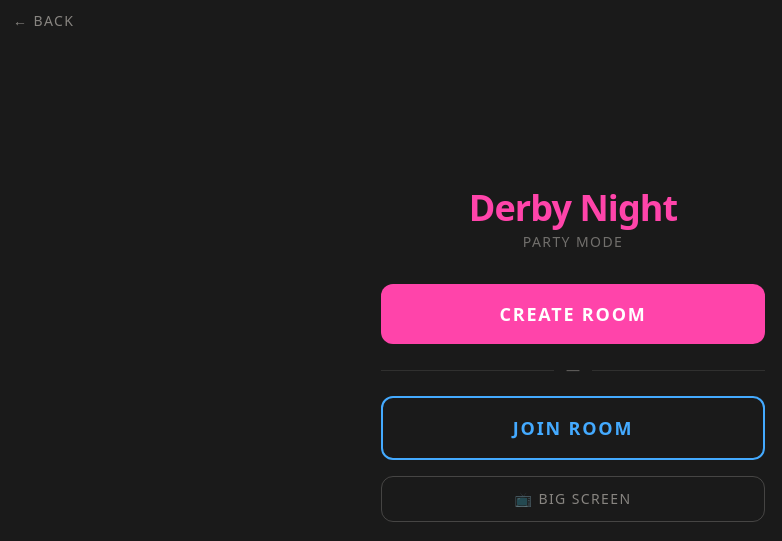
Scenario: DerbyLobbyScreen — Join Room › join button is enabled when exactly 4 characters entered
This screenshot has width=782, height=541.
Click the button with test id "join-room-btn" at (573, 428), box [381, 396, 765, 460]
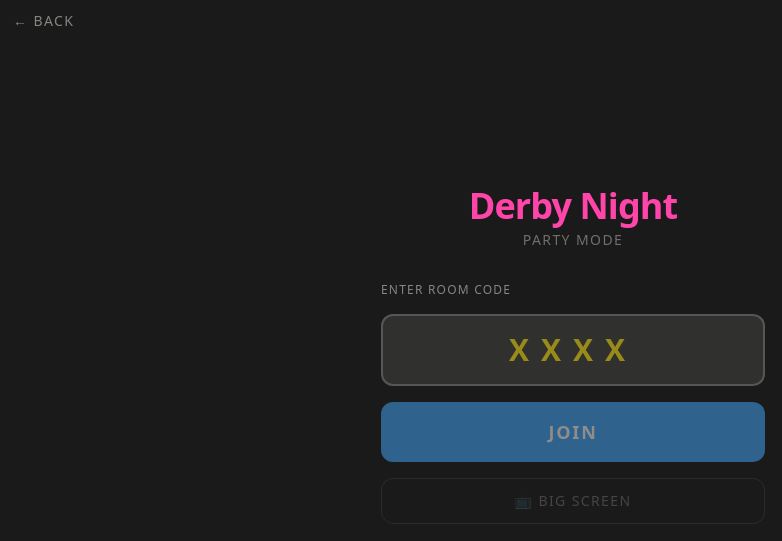
Type "G7KP" into the field with test id "room-code-input" at (573, 350), box [381, 314, 765, 386]
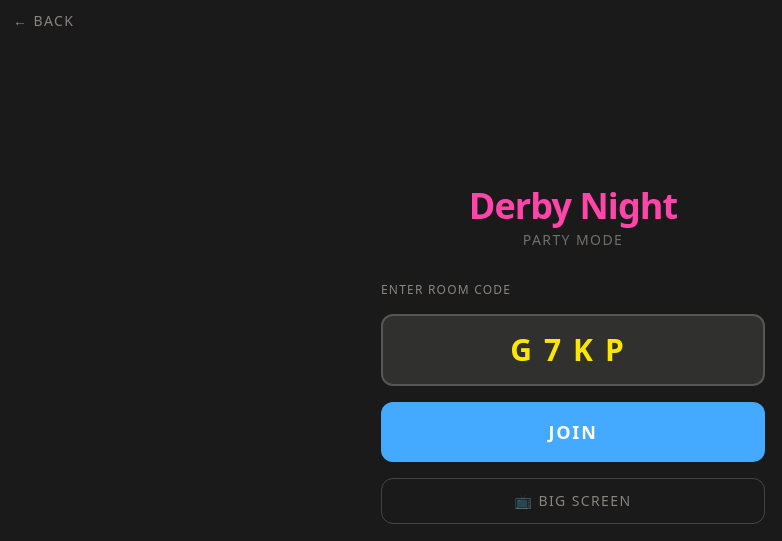
Expected: the button with test id "join-code-btn" is enabled, [381, 402, 765, 462]
